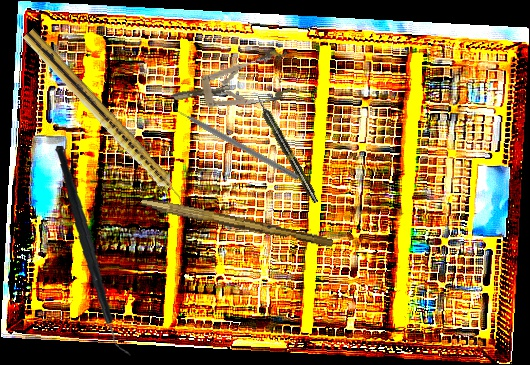Chopper: (40, 145, 147, 357), (168, 97, 304, 181)
Handpiece: (18, 27, 193, 213), (253, 94, 321, 205)
Scalpel Handle: (139, 197, 335, 249)
Speculum: (168, 47, 296, 121)
